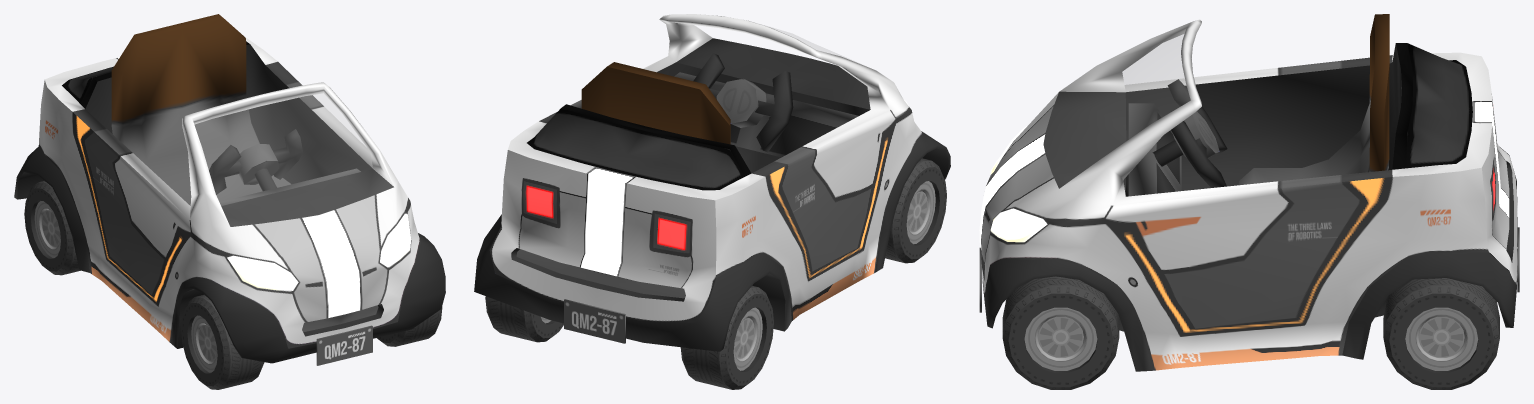
Rendered from car.glb.
3 views of the same model, side by side, from view 1: azimuth 30°, elevation 25°; view 2: azimuth 150°, elevation 25°; view 3: azimuth 270°, elevation 25° (orthographic). The views are drawn at different scales.
Visible parts, largest first — view 1: car_l, car_glass, site_l, car_wheel.008, car_wheel.007, hd_l, pi_l, car_wheel.005, eb_l; view 2: car_l, site_l, car_wheel.007, car_wheel.008, hd_l, eb_l, car_wheel.006, pi_l2; view 3: car_l, car_glass, car_wheel.006, car_wheel.005, site_l, hd_l, eb_l.
Part boxes in pixels (x1=…): car_l: x1=14, y1=38, x2=445, y2=363; car_glass: x1=193, y1=87, x2=393, y2=226; site_l: x1=111, y1=14, x2=290, y2=205; car_wheel.008: x1=181, y1=294, x2=264, y2=389; car_wheel.007: x1=24, y1=181, x2=80, y2=275; hd_l: x1=209, y1=129, x2=302, y2=194; pi_l: x1=316, y1=325, x2=372, y2=365; car_wheel.005: x1=377, y1=306, x2=442, y2=346; eb_l: x1=219, y1=168, x2=360, y2=205; car_l: x1=474, y1=14, x2=950, y2=351; site_l: x1=581, y1=62, x2=730, y2=144; car_wheel.007: x1=680, y1=285, x2=773, y2=389; car_wheel.008: x1=885, y1=158, x2=946, y2=263; hd_l: x1=693, y1=53, x2=793, y2=152; eb_l: x1=674, y1=72, x2=858, y2=157; car_wheel.006: x1=485, y1=296, x2=563, y2=342; pi_l2: x1=564, y1=299, x2=625, y2=343; car_l: x1=979, y1=19, x2=1517, y2=371; car_glass: x1=1044, y1=23, x2=1190, y2=188; car_wheel.006: x1=1383, y1=278, x2=1499, y2=389; car_wheel.005: x1=1002, y1=276, x2=1119, y2=389; site_l: x1=1238, y1=14, x2=1389, y2=185; hd_l: x1=1152, y1=79, x2=1227, y2=187; eb_l: x1=1128, y1=103, x2=1181, y2=196.
Bounding box in the file's own units: 2.21 × 2.18 × 3.7.
3 materials, 2 textured.
